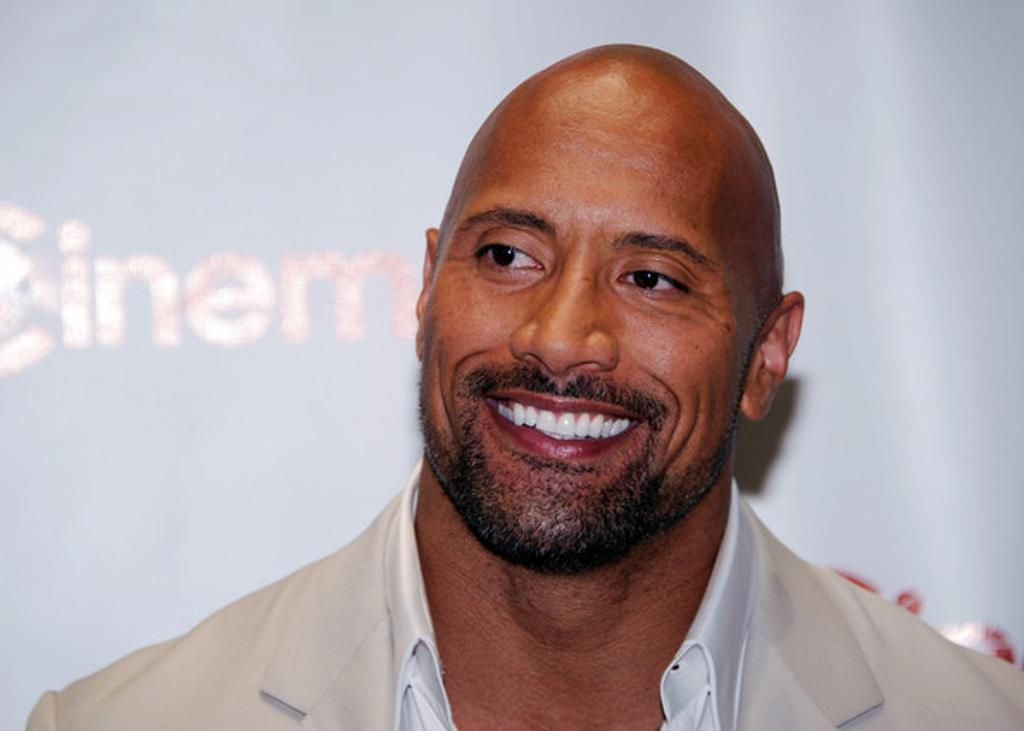face: (432, 80, 756, 568)
